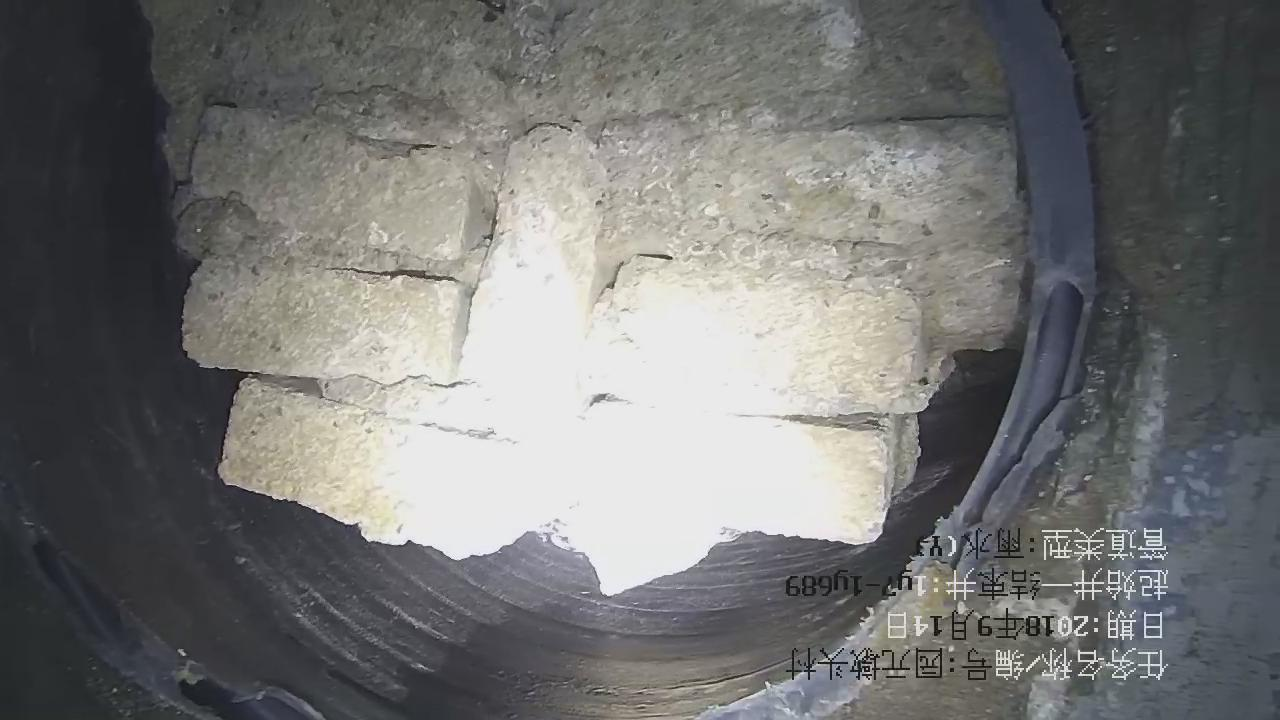CQBG: (143, 1, 1025, 593)
